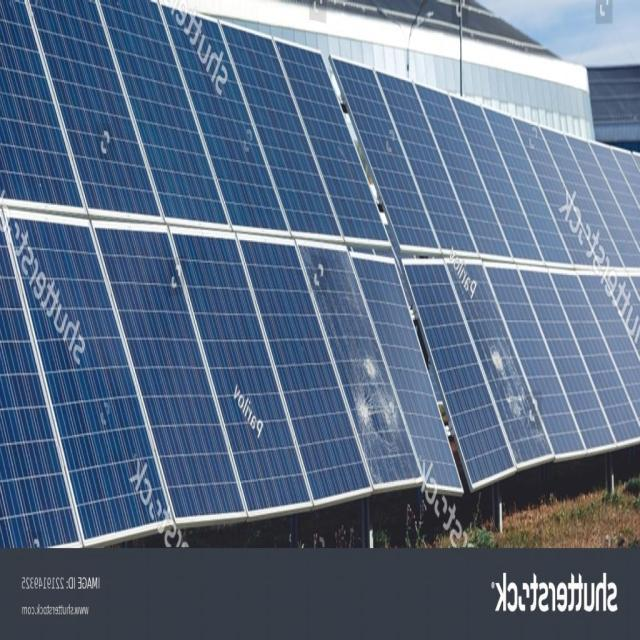cracked: (302, 238, 407, 495), (478, 261, 546, 480)
